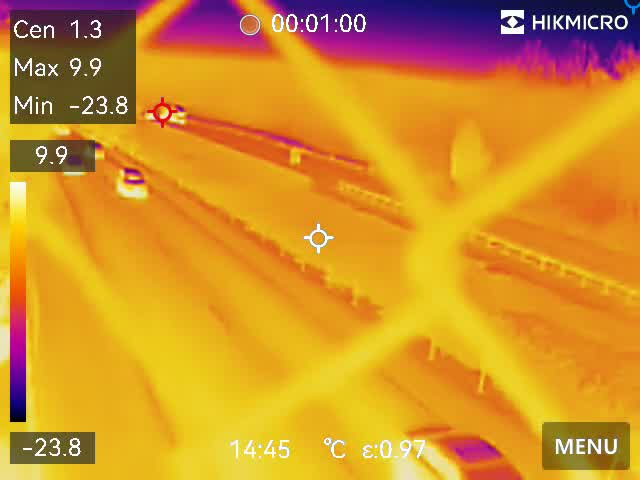vehicle: (398, 409, 536, 480), (112, 160, 149, 203), (58, 151, 89, 185), (84, 142, 113, 163)
